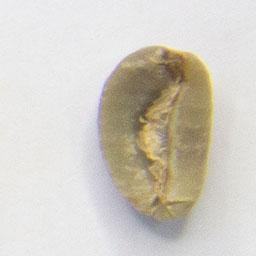longberry: (96, 43, 217, 226)
